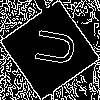U: (25, 25, 77, 69)
